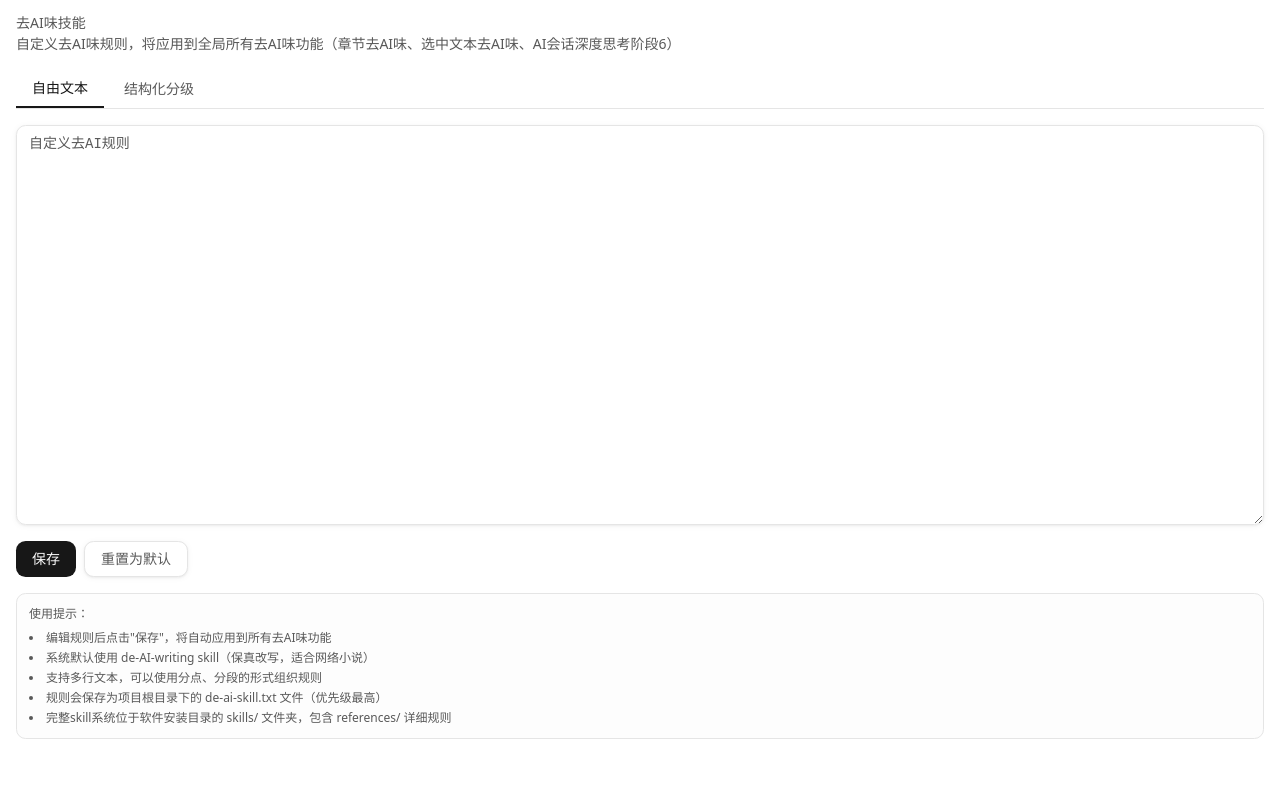
DeAiSkillEditor › reports a save failure
The image size is (1280, 800).
Expected: the text box is shown, [16,125,1264,525]
Step 1. Click the button "保存" → (46, 559), box [16,541,76,577]
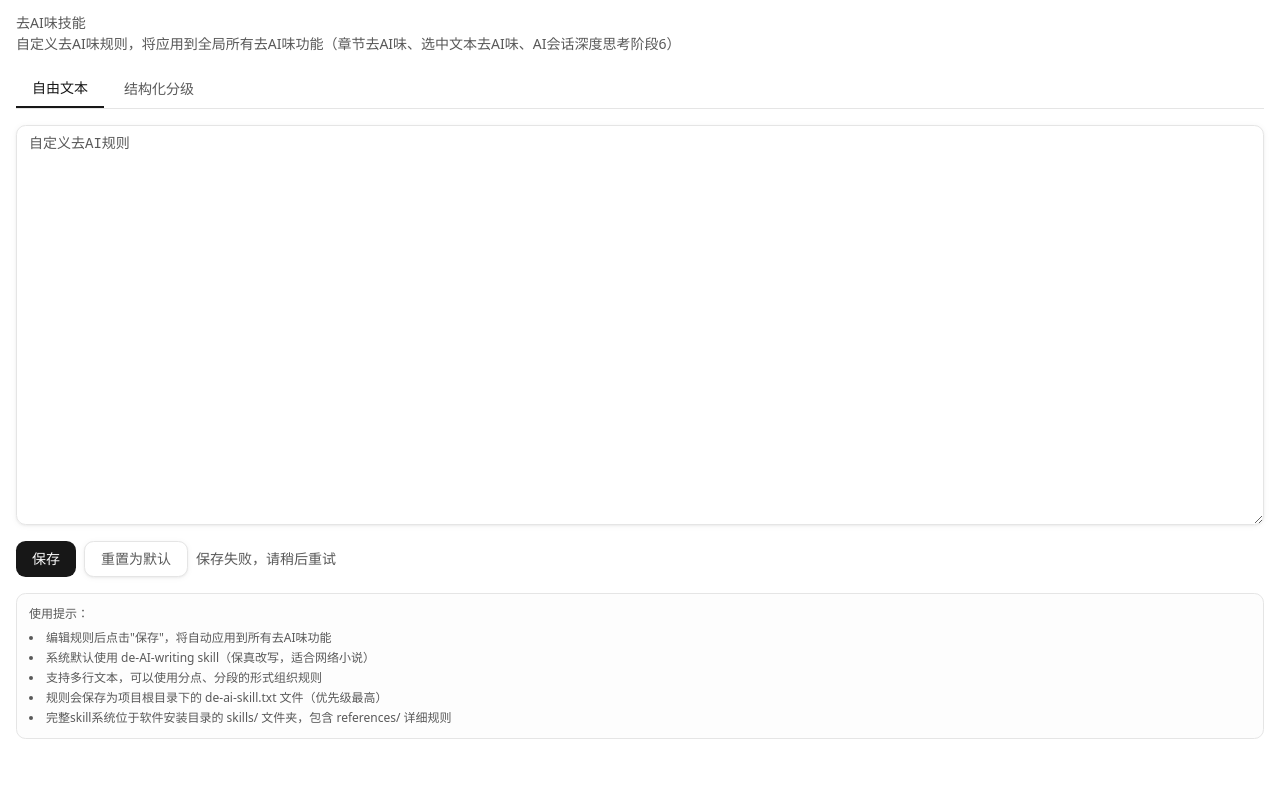
Result: the text "保存失败，请稍后重试" is shown at [196,549,336,569]
